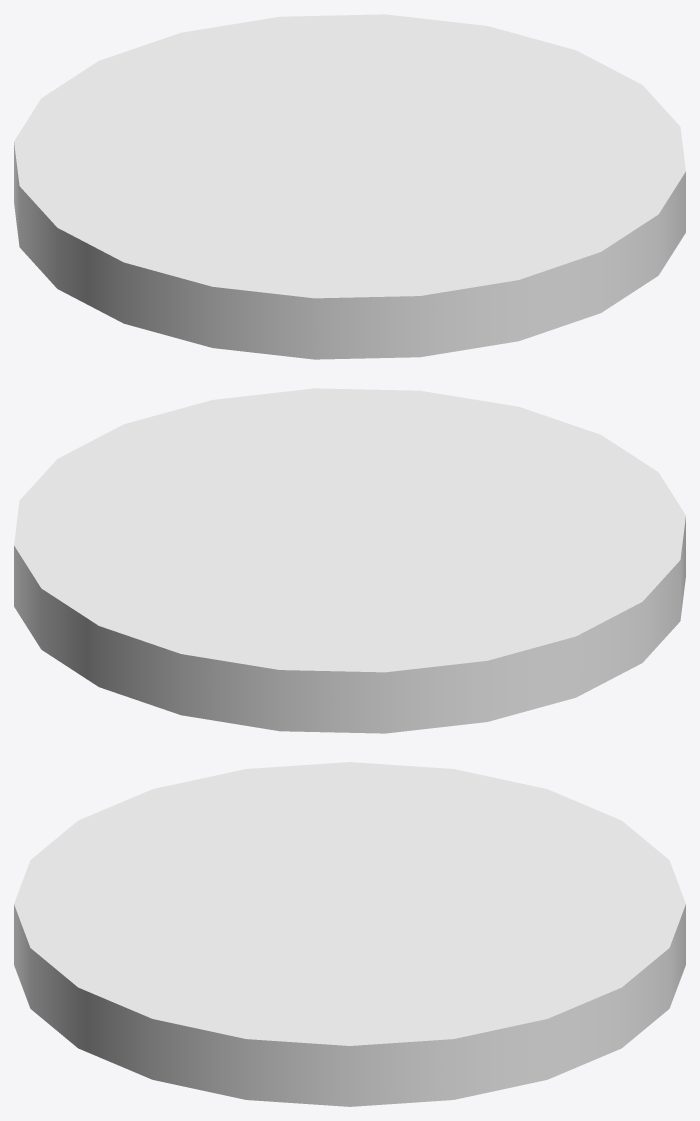
File: coin_proj.glb
3 renders of one model, top to bottom at view 1: azimuth 30°, elevation 25°; view 2: azimuth 150°, elevation 25°; view 3: azimuth 270°, elevation 25°, orthographic.
Parts seen in each view (by area): view 1: coin_low; view 2: coin_low; view 3: coin_low.
Part boxes in pixels (left/top/right/bottom): coin_low: left=14, top=14, right=685, bottom=359; coin_low: left=14, top=388, right=685, bottom=733; coin_low: left=14, top=762, right=685, bottom=1106.
Bounding box in the file's own units: 0.02 × 0.002 × 0.02.
Materials: 1 (1 with a texture image).
